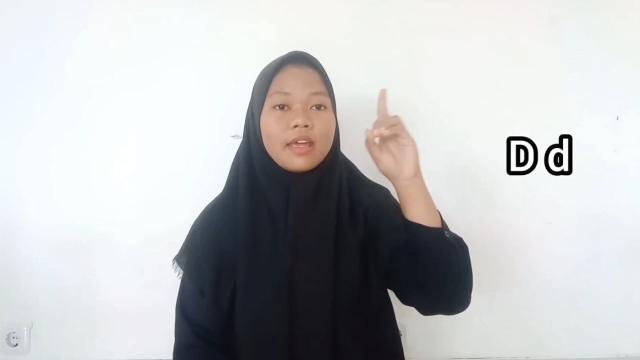D: (362, 87, 420, 181)
